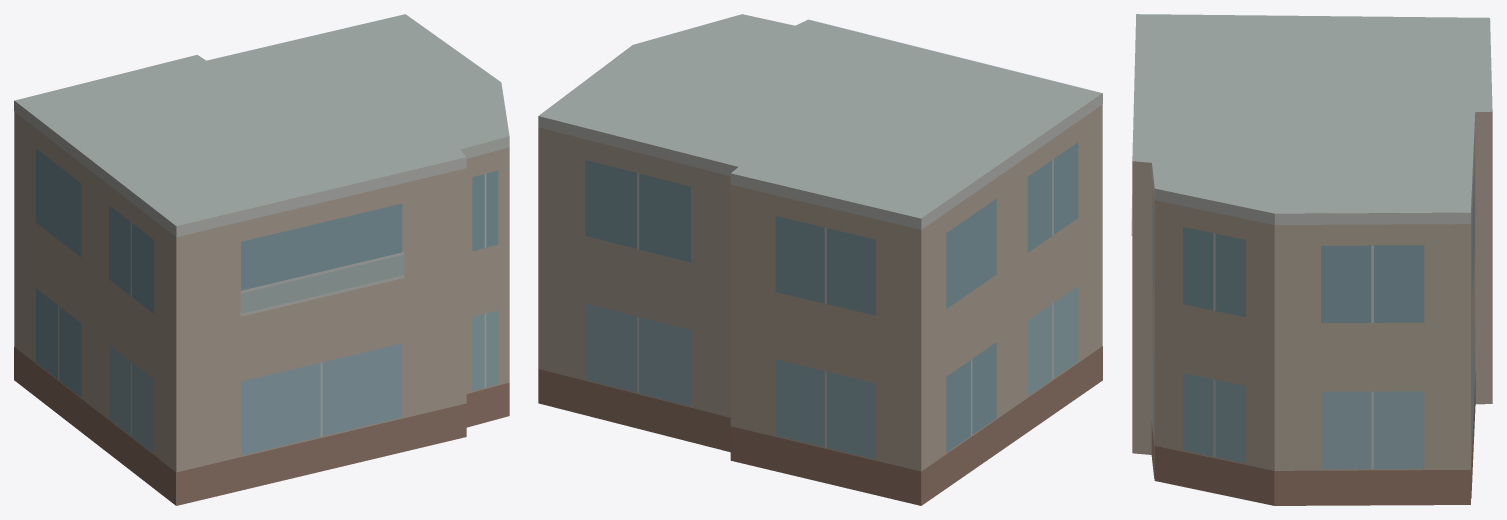
Rendered from survey-upis-32710061.glb.
3 views of the same model, side by side, from view 1: azimuth 30°, elevation 25°; view 2: azimuth 150°, elevation 25°; view 3: azimuth 270°, elevation 25° (orthographic). The views are drawn at different scales.
Visible parts, largest first — view 1: survey-upis-32710061.tmp; view 2: survey-upis-32710061.tmp; view 3: survey-upis-32710061.tmp.
Part boxes in pixels (x1,y1,x2,y2): survey-upis-32710061.tmp: (14,14,509,505); survey-upis-32710061.tmp: (538,14,1102,505); survey-upis-32710061.tmp: (1131,14,1492,505).
Size of the model in its own units: 9.09 by 6.2 by 6.96.
